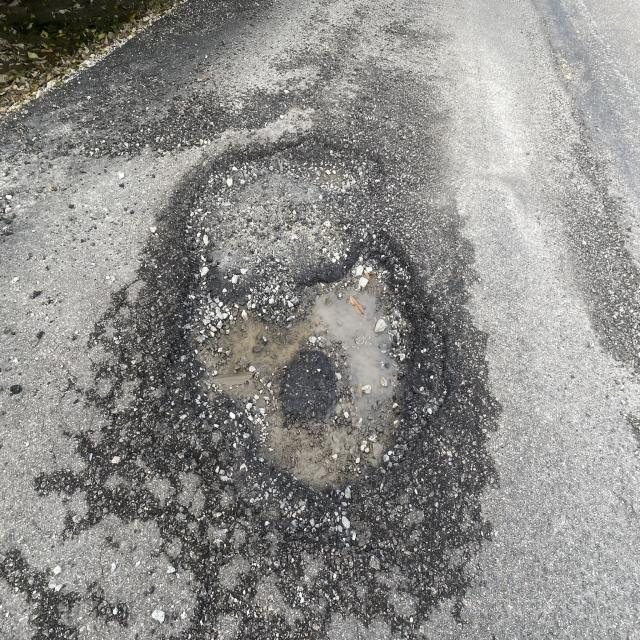pothole: (149, 209, 475, 523)
